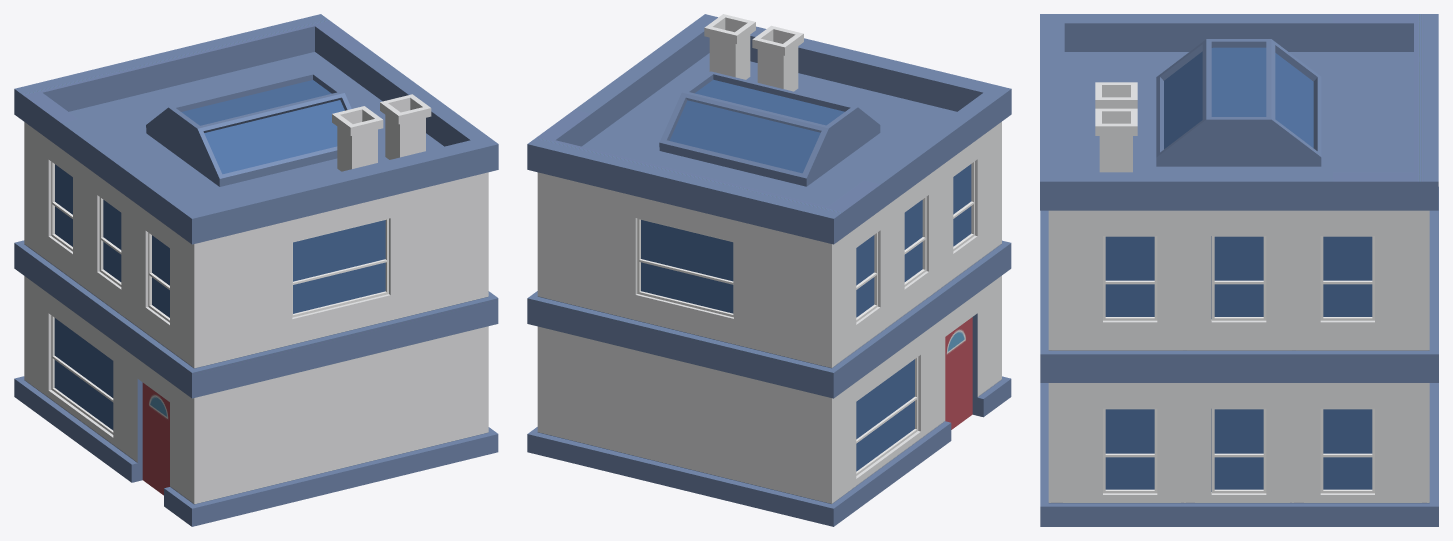
Rendered from Buidling_01.fbx.
The picture shows the model from 3 angles, left to right: view 1: azimuth 30°, elevation 25°; view 2: azimuth 150°, elevation 25°; view 3: azimuth 270°, elevation 25°; orthographic projection. The views are drawn at different scales.
Parts seen in each view (by area): view 1: Building; view 2: Building; view 3: Building.
Part boxes in pixels (x1,y1,x2,y2): Building: [14, 14, 498, 526]; Building: [527, 14, 1011, 526]; Building: [1040, 14, 1438, 526].
Size of the model in its own units: 417 by 437 by 419.
